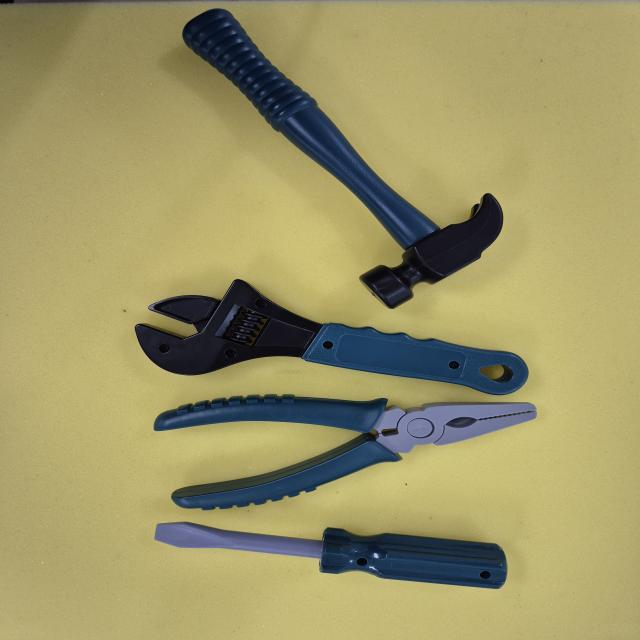hammer: (140, 8, 529, 310)
pliers: (114, 374, 564, 518)
screwdriver: (120, 504, 537, 613)
wrench: (113, 271, 566, 408)
